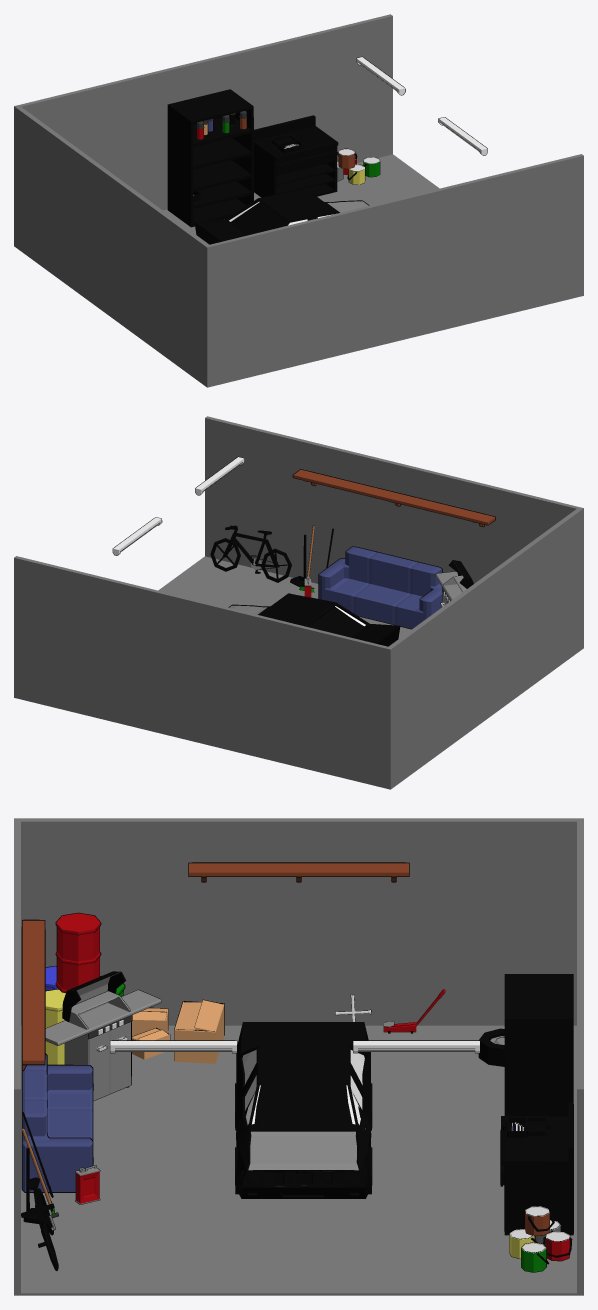
File: Garage.fbx
3 views of the same model, one above another, from view 1: azimuth 30°, elevation 25°; view 2: azimuth 150°, elevation 25°; view 3: azimuth 270°, elevation 25° (orthographic). The views are drawn at different scales.
Parts seen in each view (by area): view 1: Cube, Cube.016, Cube.006, Cube.018, Cube.050, Cube.046, Cube.063; view 2: Cube, Cube.017, Cube.018, Cube.011, Cube.089, Cube.066, Cube.046, Cube.063; view 3: Cube, Cube.018, Cube.016, Cube.017, Cube.089, Cube.006, Cube.029, Cube.011, Cube.009, Cube.015, Cube.034, Cube.063 (+14 smaller).
Part boxes in pixels (x1,y1,x2,y2): Cube: [14, 14, 583, 387]; Cube.016: [167, 89, 253, 227]; Cube.006: [254, 115, 338, 197]; Cube.018: [194, 189, 369, 244]; Cube.050: [276, 150, 337, 175]; Cube.046: [356, 56, 405, 95]; Cube.063: [438, 117, 487, 155]; Cube: [14, 416, 583, 789]; Cube.017: [318, 546, 442, 629]; Cube.018: [228, 593, 400, 646]; Cube.011: [292, 469, 495, 527]; Cube.089: [435, 560, 473, 606]; Cube.066: [222, 525, 279, 567]; Cube.046: [112, 517, 162, 555]; Cube.063: [195, 456, 244, 495]; Cube: [14, 818, 583, 1295]; Cube.018: [236, 1022, 371, 1198]; Cube.016: [504, 974, 573, 1116]; Cube.017: [21, 1053, 93, 1192]; Cube.089: [45, 971, 161, 1101]; Cube.006: [501, 1102, 573, 1235]; Cube.029: [248, 1131, 358, 1170]; Cube.011: [21, 919, 45, 1071]; Cube.009: [188, 862, 409, 882]; Cube.015: [55, 912, 101, 992]; Cube.034: [174, 999, 224, 1063]; Cube.063: [110, 1040, 237, 1053].
Size of the model in its own units: 3976 by 1413 by 3534.
